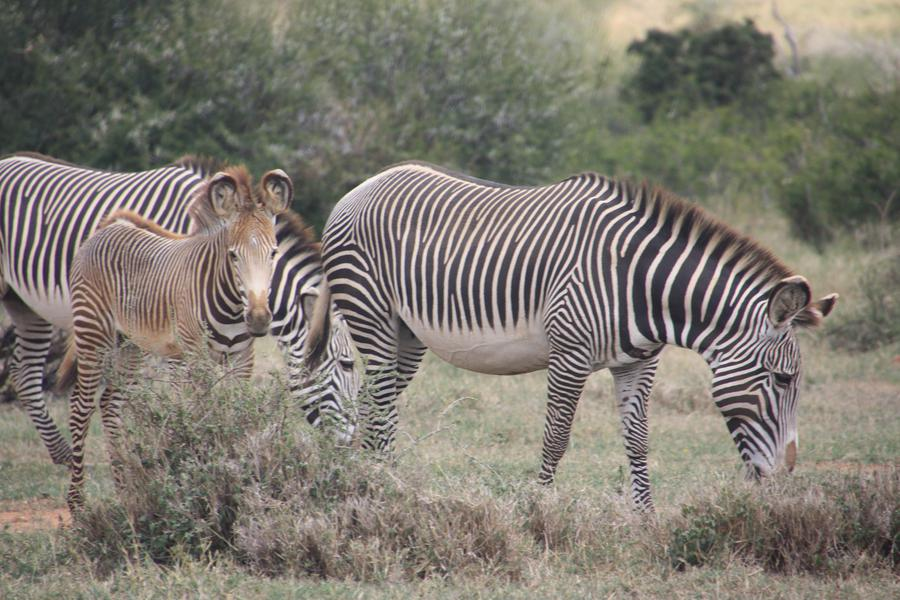zebra_grevys: (334, 160, 627, 362)
